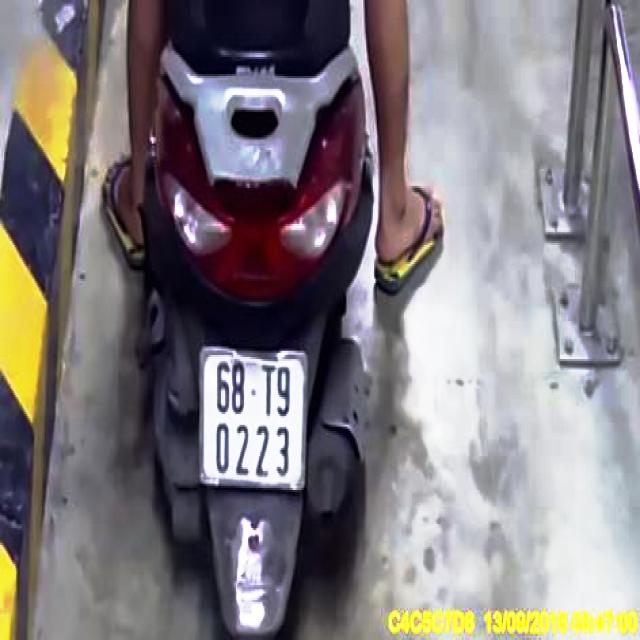license_plate: (201, 350, 306, 488)
